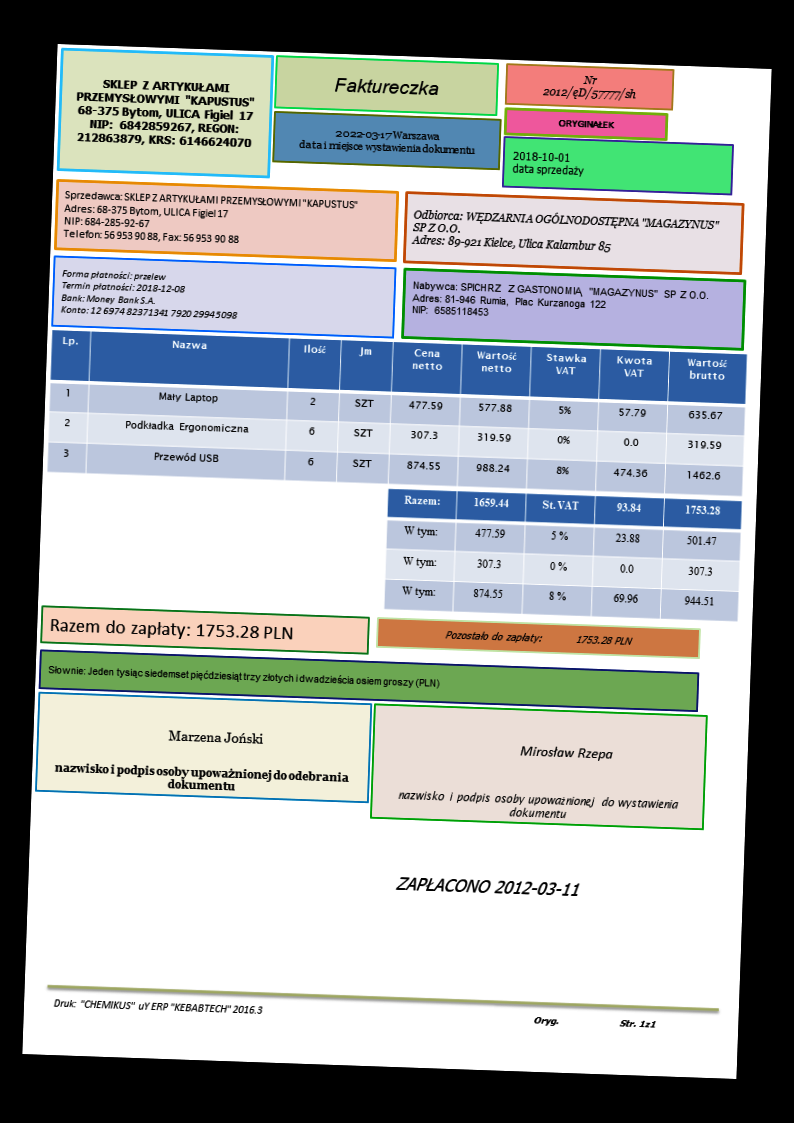Table: (45, 327, 749, 498), (383, 485, 744, 621)
TextBox: (60, 185, 358, 252), (410, 204, 722, 260), (410, 277, 710, 327), (71, 72, 257, 152), (44, 661, 443, 692), (51, 759, 351, 798), (394, 785, 681, 825), (58, 266, 241, 322), (46, 613, 295, 645), (296, 123, 478, 159), (393, 870, 585, 901), (51, 994, 267, 1018), (441, 626, 636, 650), (540, 71, 638, 104), (330, 72, 441, 101), (530, 1012, 658, 1032), (510, 146, 584, 179), (164, 724, 265, 748), (517, 740, 616, 763), (555, 115, 614, 132)
